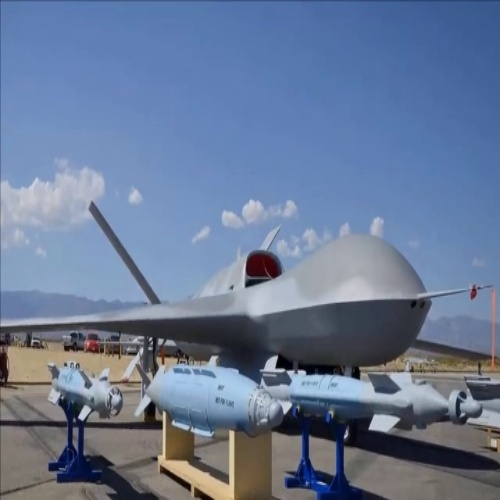uav: (1, 192, 496, 370)
